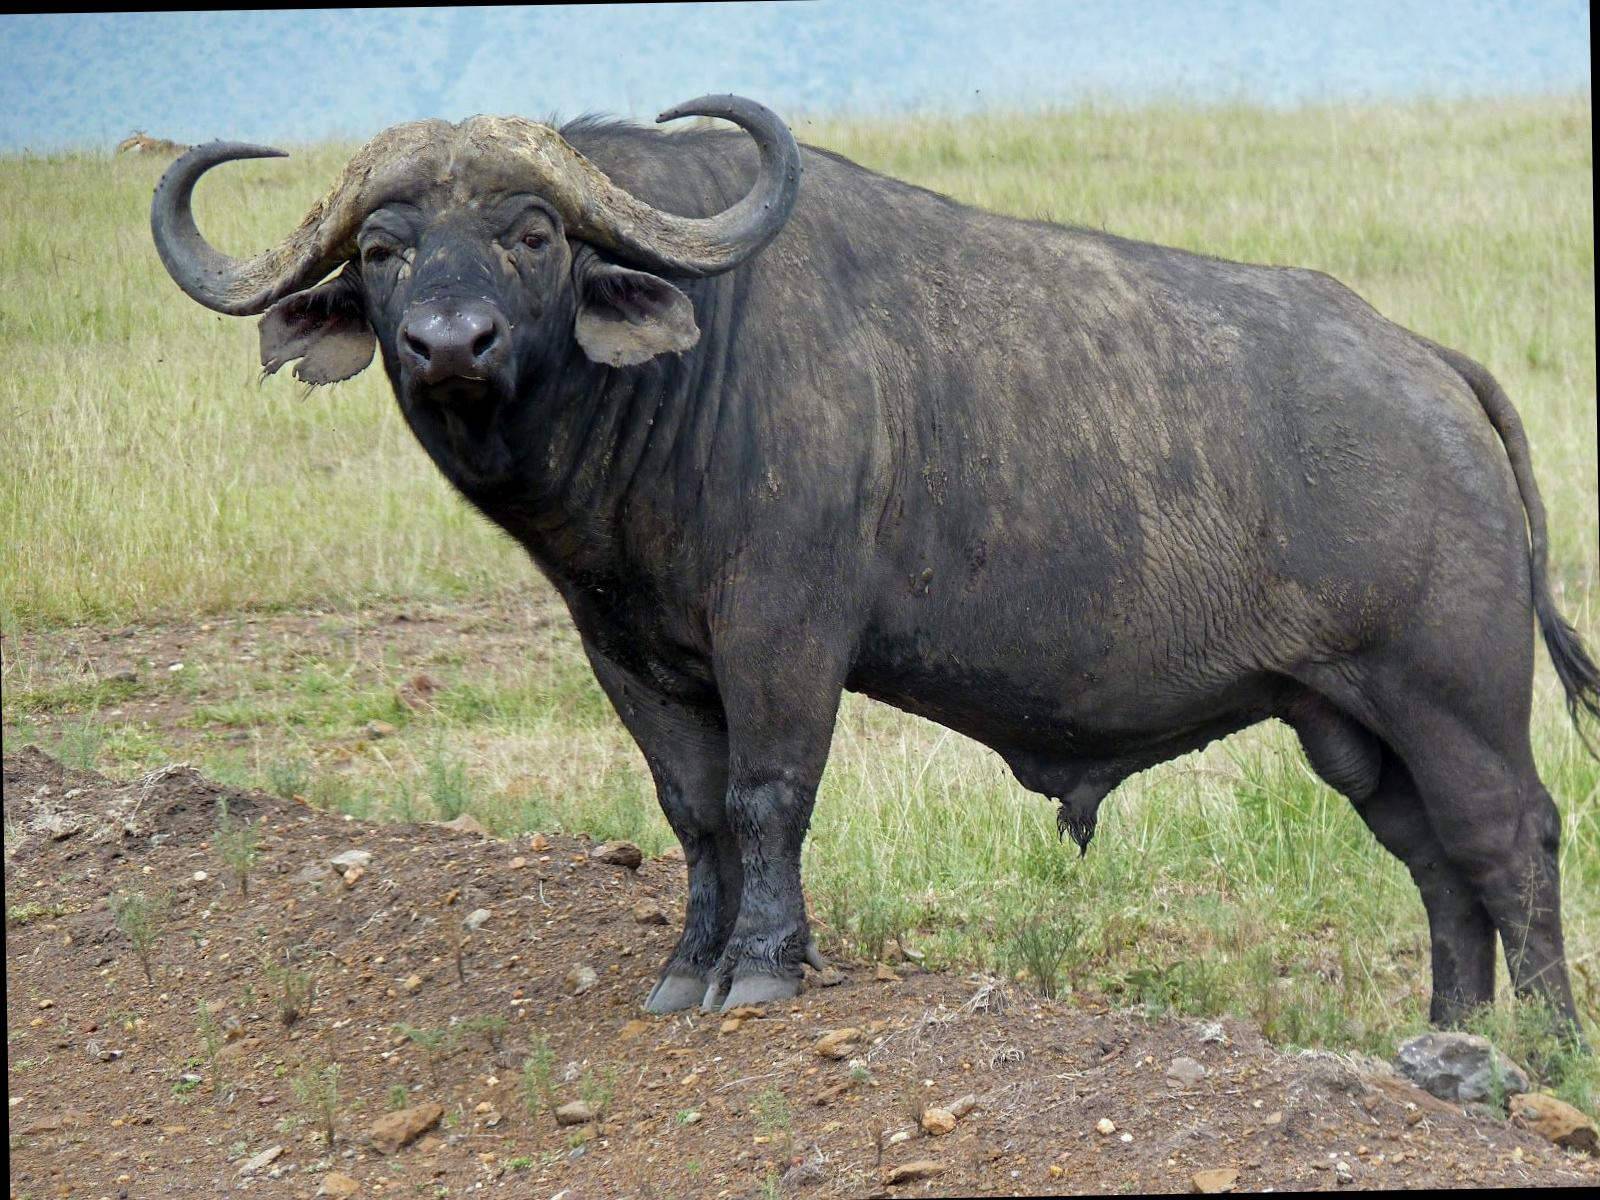Buffalo: (140, 20, 1600, 1064)
